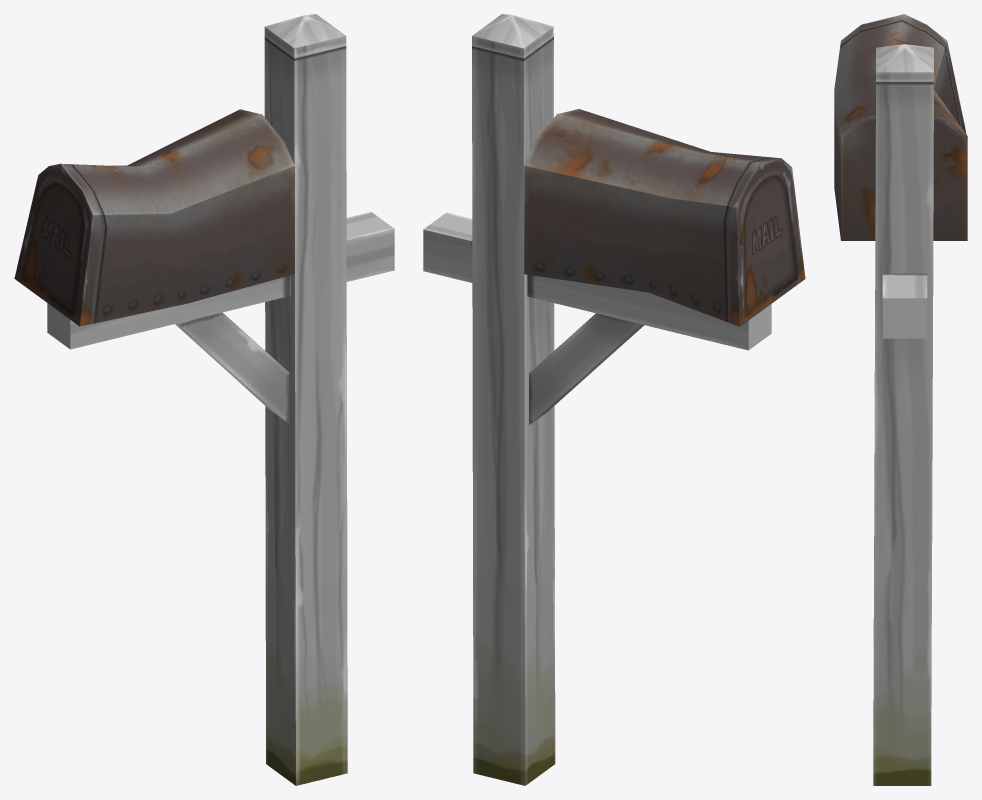
File: mailBox02_B.fbx
3 renders of one model, left to right at view 1: azimuth 30°, elevation 25°; view 2: azimuth 150°, elevation 25°; view 3: azimuth 270°, elevation 25°, orthographic. The views are drawn at different scales.
Visible parts, largest first — view 1: mailBox02_B; view 2: mailBox02_B; view 3: mailBox02_B.
Part boxes in pixels (bbox=[...]): mailBox02_B: bbox=[14, 14, 394, 785]; mailBox02_B: bbox=[423, 14, 805, 785]; mailBox02_B: bbox=[834, 14, 967, 785].
Bounding box in the file's own units: 64.99 × 139 × 23.
